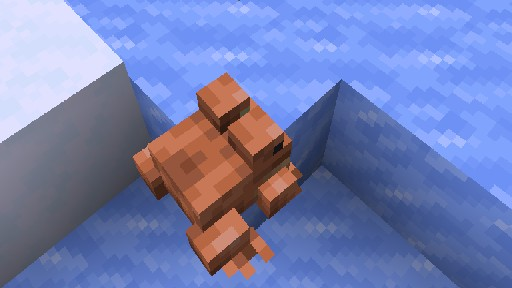frog: (131, 71, 303, 280)
